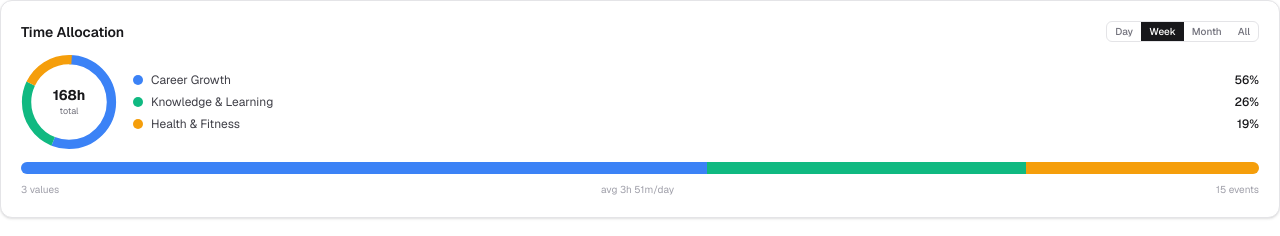
Test: TimeAllocation component › period switching › fetches with the correct period when switching to "month"
Expected: the text "168h" is shown, x1=53 y1=85 x2=85 y2=105
Click the button "month": x=1207, y=32 x1=1184 y1=22 x2=1230 y2=41
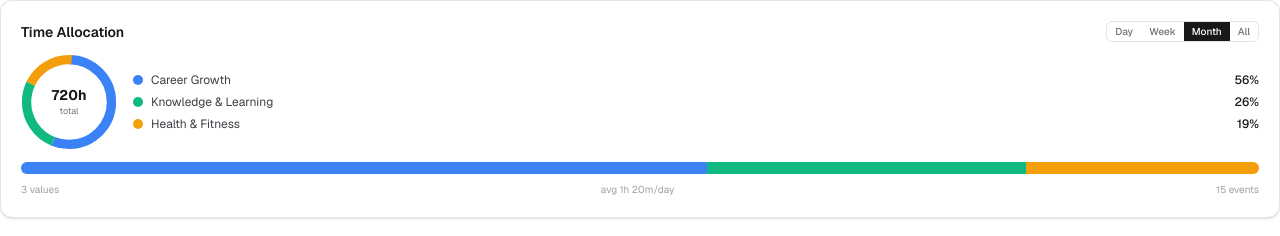
Now the text "720h" is shown, box x1=52 y1=85 x2=86 y2=105
